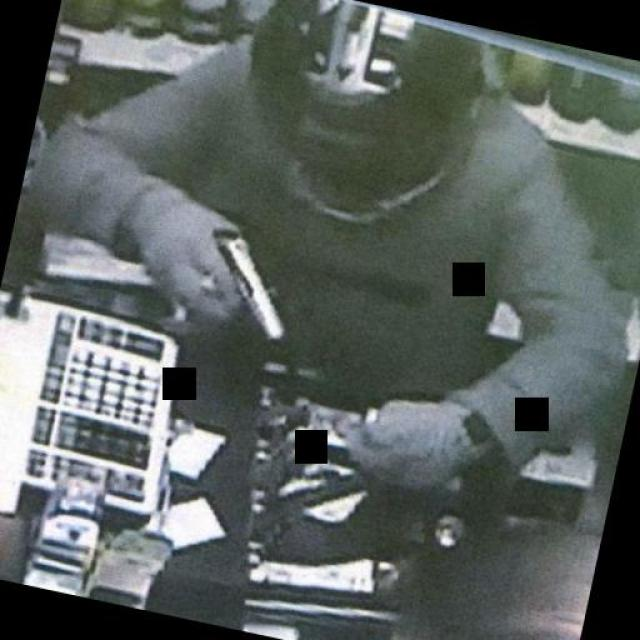gun: (146, 214, 310, 345)
